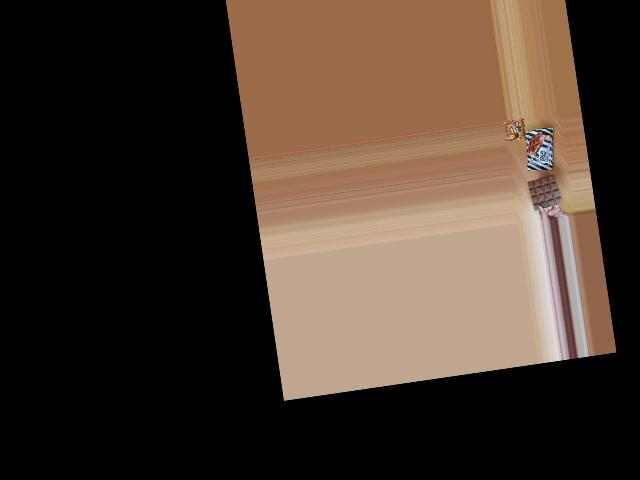chocolate: (523, 125, 558, 174)
